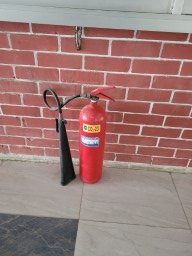fire_extinguisher: (64, 101, 140, 198)
